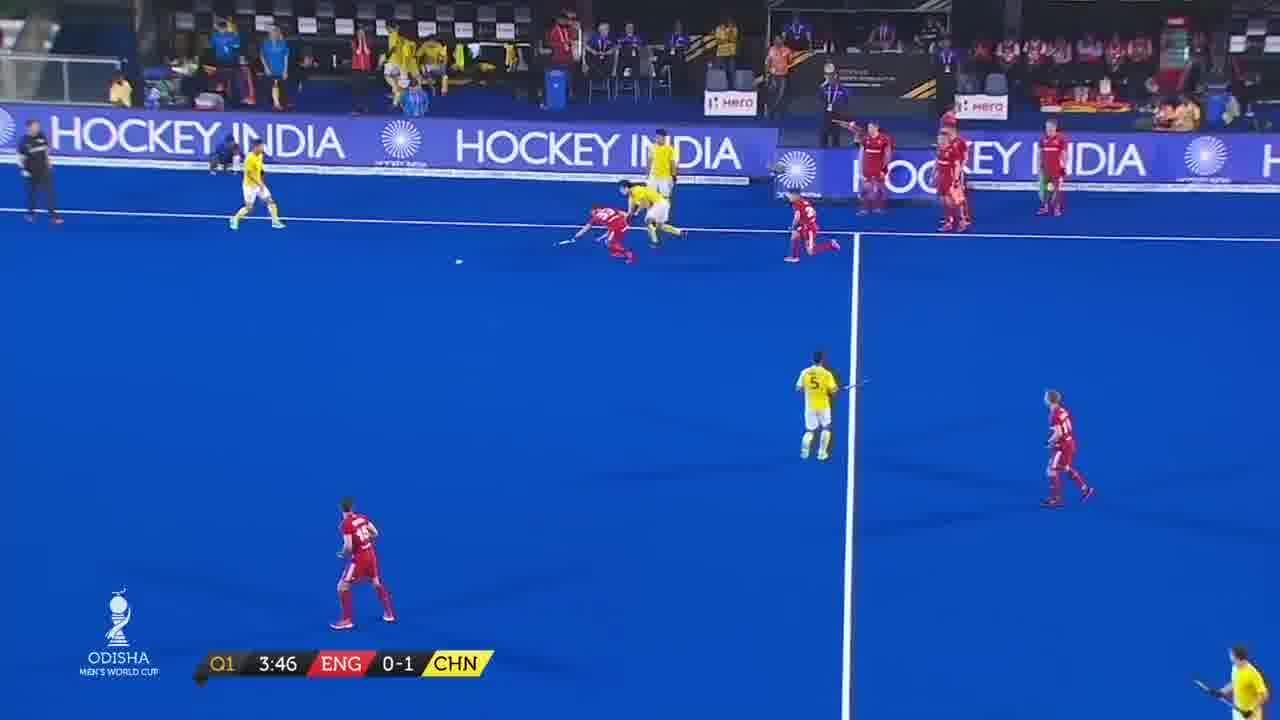ball: (454, 252, 470, 272)
